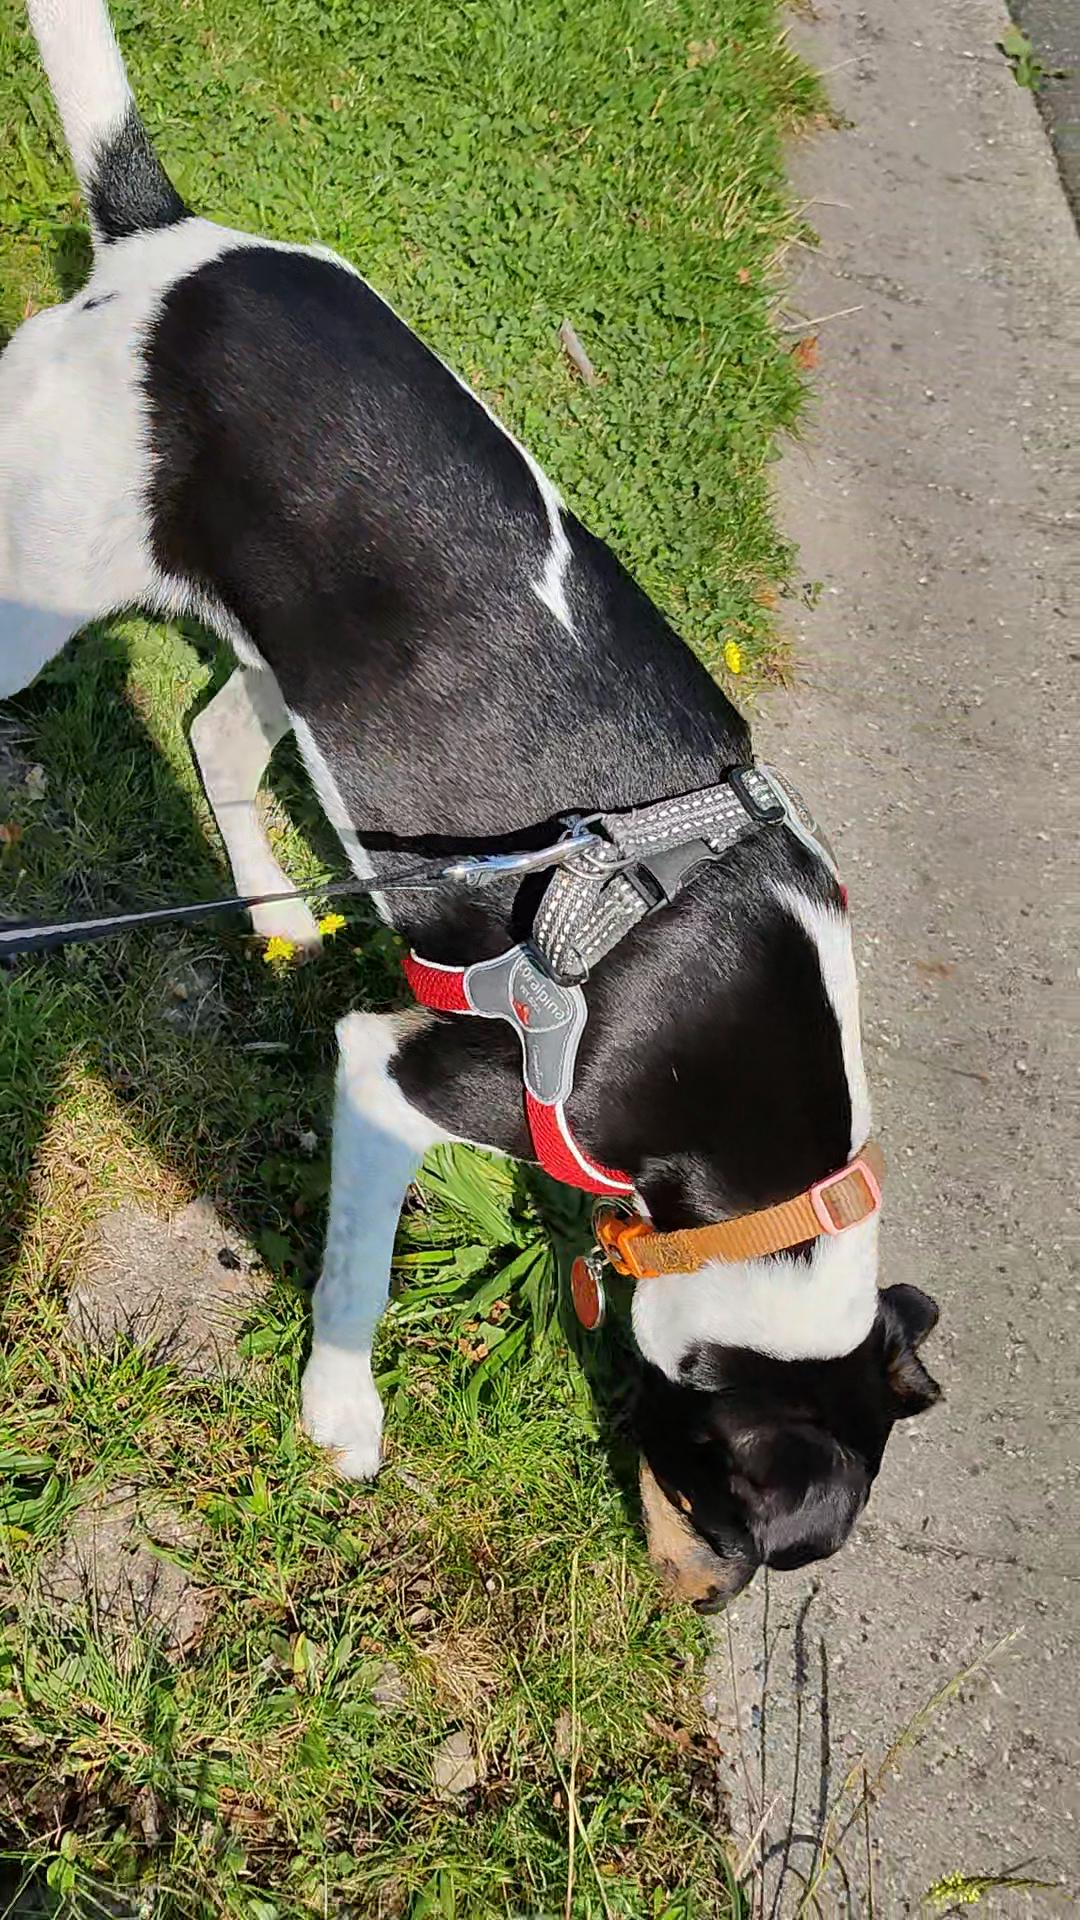Dog: (0, 0, 953, 1625)
